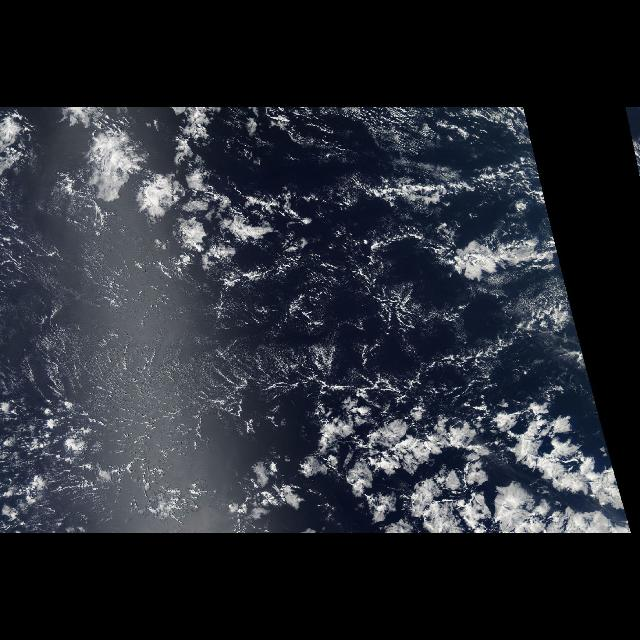Flower: (202, 385, 632, 533), (1, 108, 308, 282)
Sugar: (1, 301, 416, 513)
